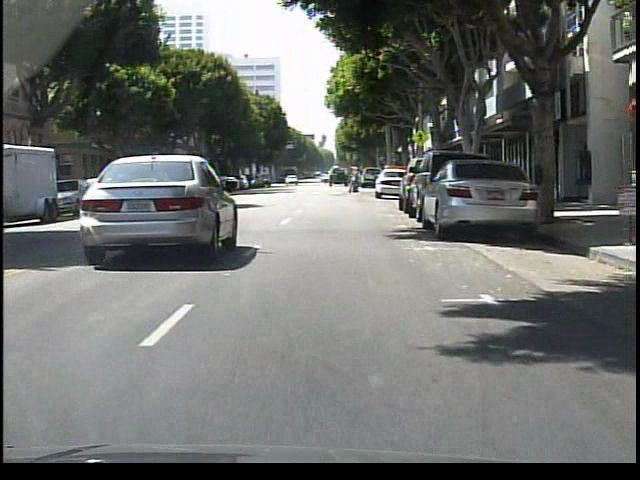person: (348, 165, 362, 193)
